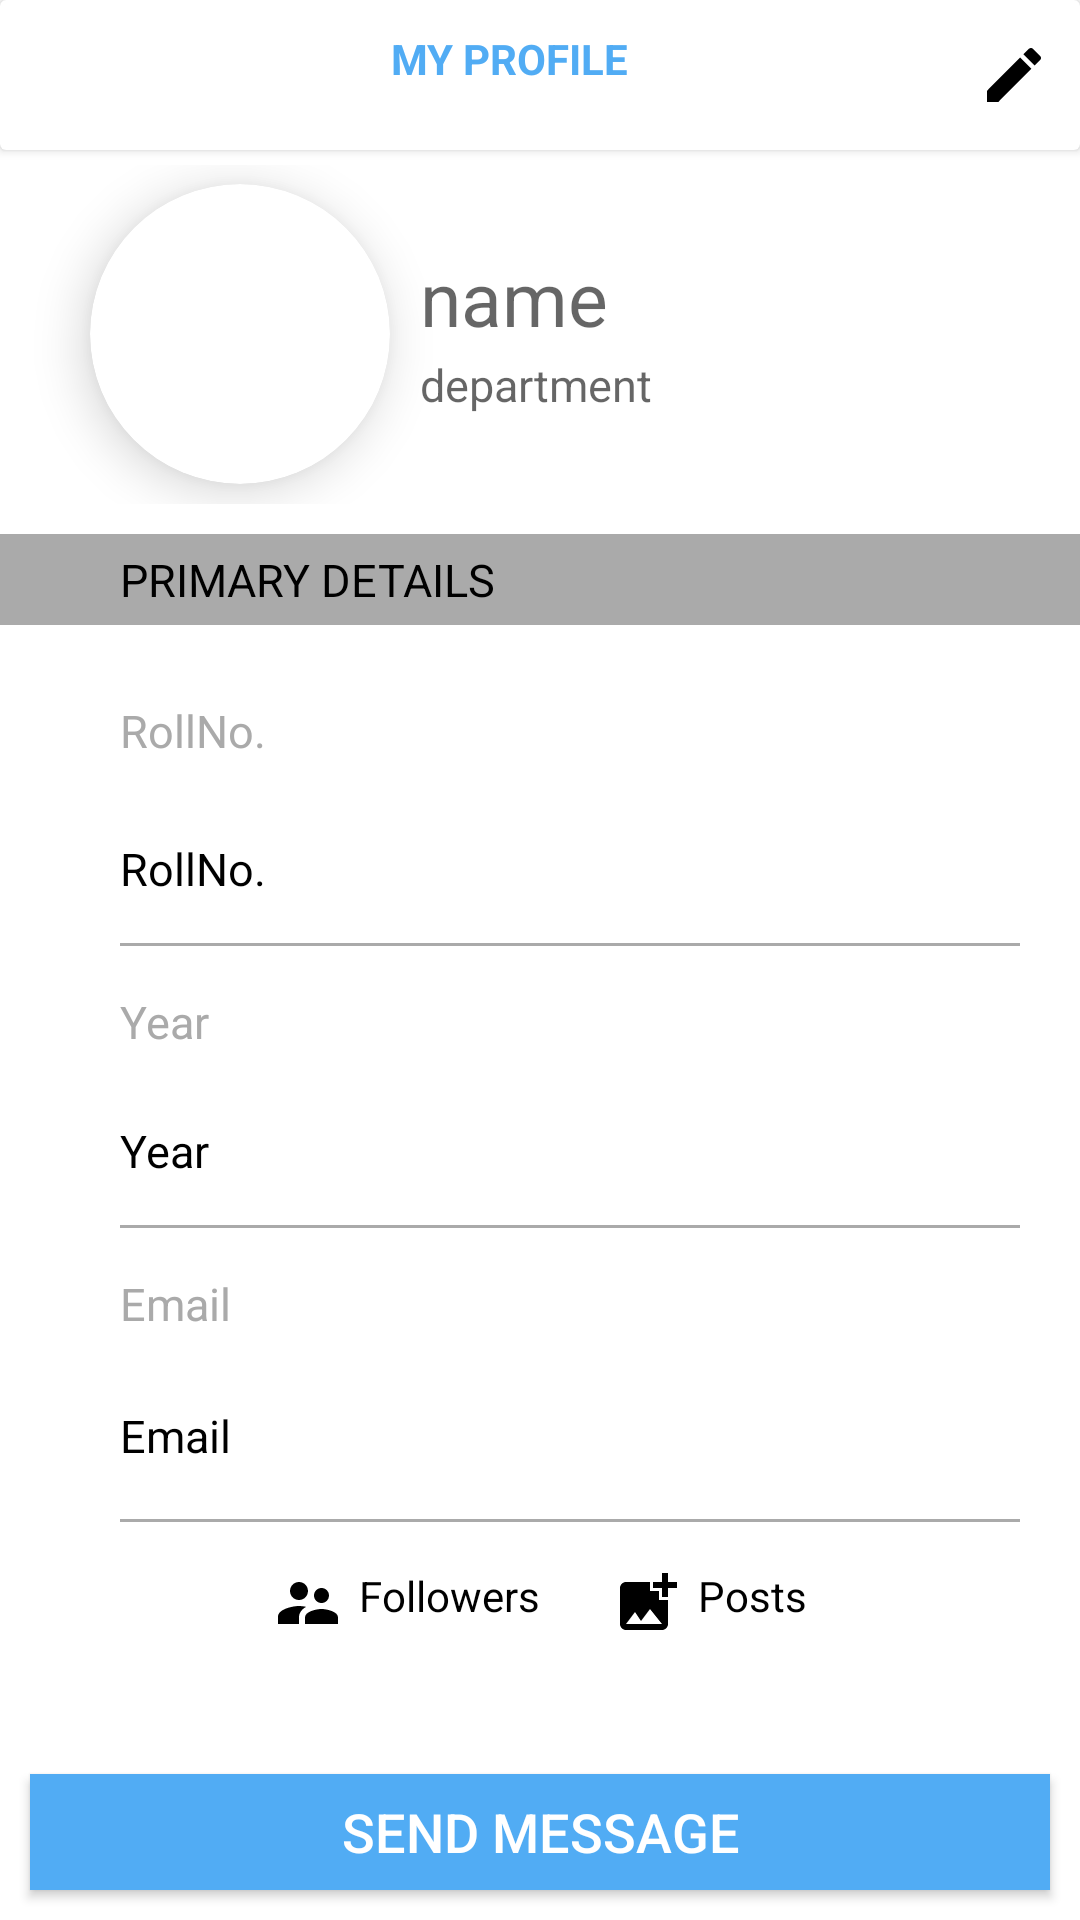

Icon bounding boxes for this 1080 × 1920 phone screenshot, format [x1,y1,x2,y2]:
edit: [987,48,1041,102]
